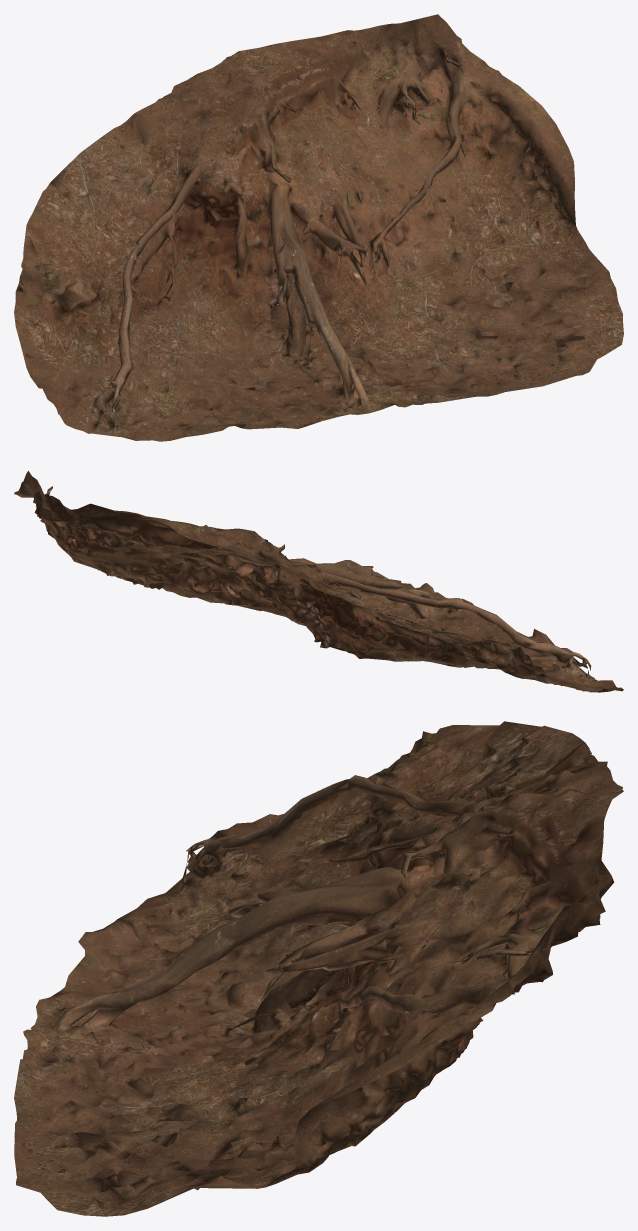
File: root_cluster_01.glb
3 renders of one model, top to bottom at view 1: azimuth 30°, elevation 25°; view 2: azimuth 150°, elevation 25°; view 3: azimuth 270°, elevation 25°, orthographic. The views are drawn at different scales.
Visible parts, largest first — view 1: root_cluster_01; view 2: root_cluster_01; view 3: root_cluster_01.
Boxes of the visible parts, x1,y1,x2,y2 form: root_cluster_01: [14, 14, 623, 441]; root_cluster_01: [14, 471, 623, 692]; root_cluster_01: [14, 721, 623, 1216].
Bounding box in the file's own units: 4.12 × 1.51 × 2.68.
Materials: 1 (1 with a texture image).
